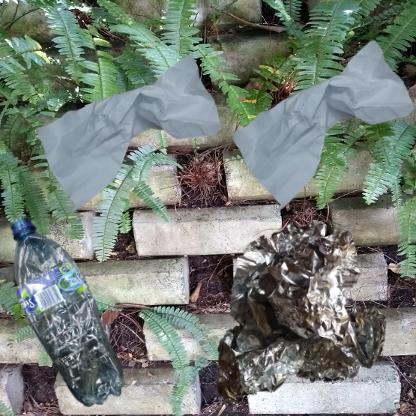aluminio: (213, 213, 396, 416)
botella: (10, 213, 127, 412)
papel: (10, 10, 264, 278), (213, 10, 416, 252)
